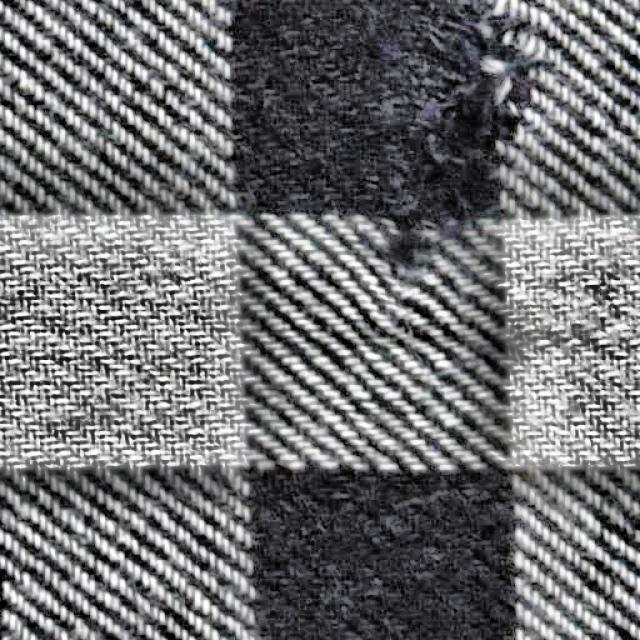Stitch: (357, 1, 545, 260)
